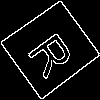R: (25, 24, 83, 81)
